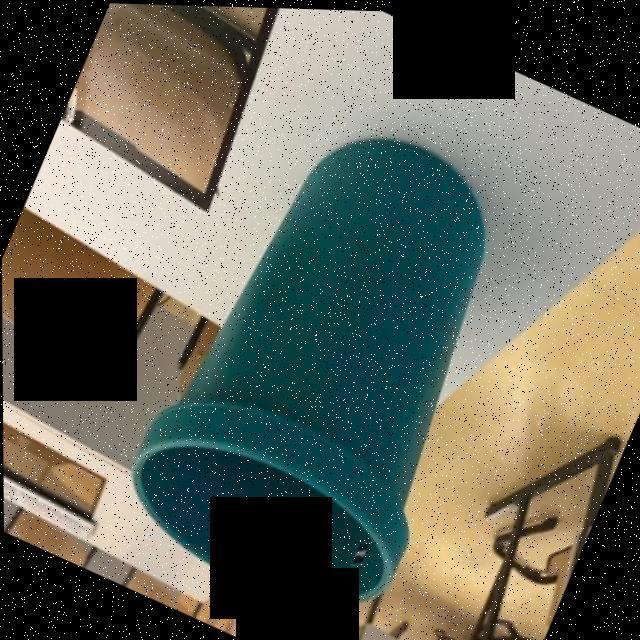bin: (70, 72, 590, 640)
